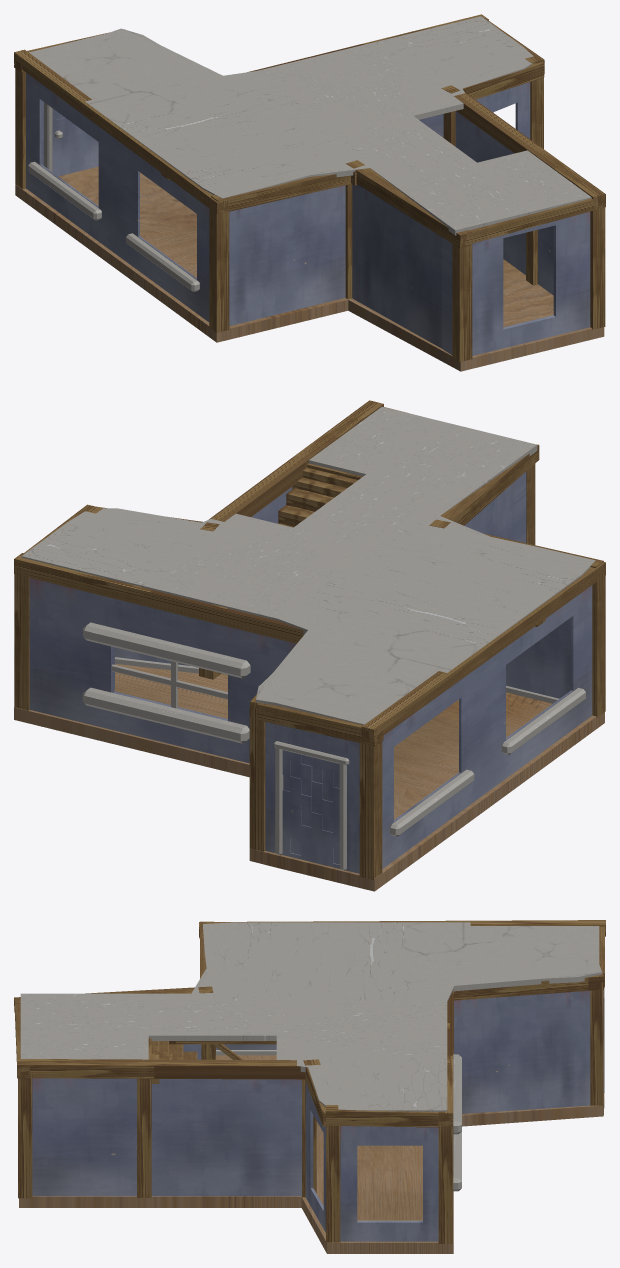
The model's file is ZombieFensse2.fbx.
3 renders of one model, top to bottom at view 1: azimuth 30°, elevation 25°; view 2: azimuth 150°, elevation 25°; view 3: azimuth 270°, elevation 25°, orthographic. The views are drawn at different scales.
Parts seen in each view (by area): view 1: pPlane11, pPlane1, pPlane6, pPlane5, pasted__pPlane6, pPlane7, pasted__pasted__pasted__pCube9, pasted__pasted__pasted__pasted__pasted__pasted__pasted__pCub (×2), pPlane8, pasted__pasted__pasted__pasted__pasted__pasted__pasted__past (×3), pasted__pasted__pasted__pCube8, pasted__pasted__pasted__pasted__pasted__pCube1 (+11 smaller); view 2: pPlane11, pPlane2, pPlane1, pPlane5, pPlane4, pasted__pasted__pasted__pasted__pasted__pasted__pasted__past (×3), pasted__pasted__pasted__pCube9, pPlane6, pasted__pasted__pasted__pasted__pasted__pasted__pasted__pCub, pasted__pCube2, pCube2, pasted__pasted__pCube1 (+11 smaller); view 3: pPlane11, pPlane8, pPlane3, pPlane1, pasted__pasted__pasted__pasted__pasted__pasted__pasted__pCub (×3), pasted__pasted__pasted__pasted__pasted__pasted__pasted__past (×5), pPlane10, pasted__pasted__pasted__pasted__pasted__pasted__pCube9, pasted__pasted__pCube7, pasted__pCube1, pPlane9, pasted__pasted__pasted__pCube9 (+4 smaller).
Boxes of the visible parts, x1,y1,x2,y2 form: pPlane11: (29,16,591,235); pPlane1: (15,166,604,371); pPlane6: (229,185,345,325); pPlane5: (26,72,209,322); pasted__pPlane6: (352,184,452,354); pPlane7: (472,211,590,355); pasted__pasted__pasted__pCube9: (14,49,227,213); pasted__pasted__pasted__pasted__pasted__pasted__pasted__pCub (×2): (454,92,605,285); pPlane8: (455,111,553,295); pasted__pasted__pasted__pasted__pasted__pasted__pasted__past (×3): (247,14,544,148); pasted__pasted__pasted__pCube8: (209,203,229,332); pasted__pasted__pasted__pasted__pasted__pCube1: (452,244,472,361); pPlane11: (21,407,595,724); pPlane2: (29,578,296,763); pPlane1: (14,663,604,891); pPlane5: (382,585,592,868); pPlane4: (265,722,359,873); pasted__pasted__pasted__pasted__pasted__pasted__pasted__past (×3): (14,488,333,710); pasted__pasted__pasted__pCube9: (361,562,605,742); pPlane6: (506,617,571,698); pasted__pasted__pasted__pasted__pasted__pasted__pasted__pCub: (209,400,383,521); pasted__pCube2: (83,622,250,678); pCube2: (83,687,249,743); pasted__pasted__pCube1: (359,741,382,879); pPlane11: (20,922,602,1111); pPlane8: (32,1078,301,1196); pPlane3: (454,990,590,1113); pPlane1: (19,1055,604,1253); pasted__pasted__pasted__pasted__pasted__pasted__pasted__pCub (×3): (17,1059,316,1197); pasted__pasted__pasted__pasted__pasted__pasted__pasted__past (×5): (303,990,453,1243); pPlane10: (340,1126,438,1241); pasted__pasted__pasted__pasted__pasted__pasted__pCube9: (18,1074,32,1198); pasted__pasted__pCube7: (454,973,603,1000); pasted__pCube1: (590,982,603,1106); pPlane9: (305,1081,325,1232); pasted__pasted__pasted__pCube9: (199,920,605,938).
Bounding box in the file's own units: 13.68 × 4.73 × 17.69.
